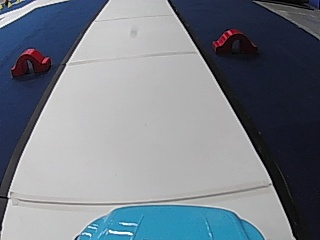bridge: (210, 24, 257, 56), (9, 44, 51, 77)
